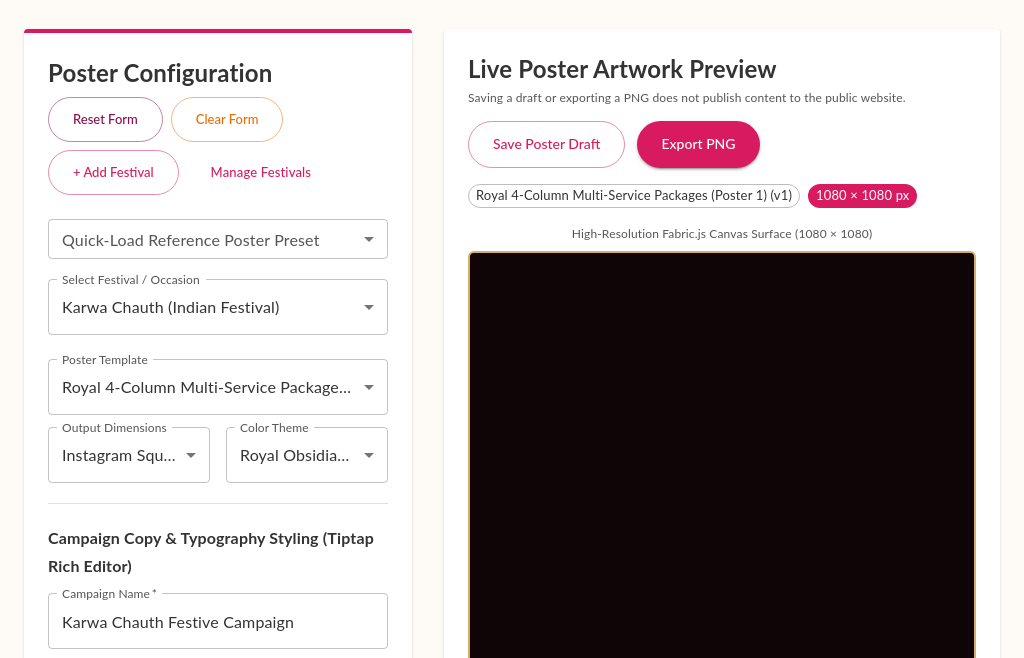
Test: Ticket 8 — Draft Persistence, Snapshot Immutability & PNG Export UI › preserves saved poster snapshot price (₹799) when source catalogue price changes (₹1,299), saves draft, and archives draft
# Save a new poster draft first
Click the button "Save Poster Draft".
click(547, 144)  # box [468,121,625,168]
(page scrolled)
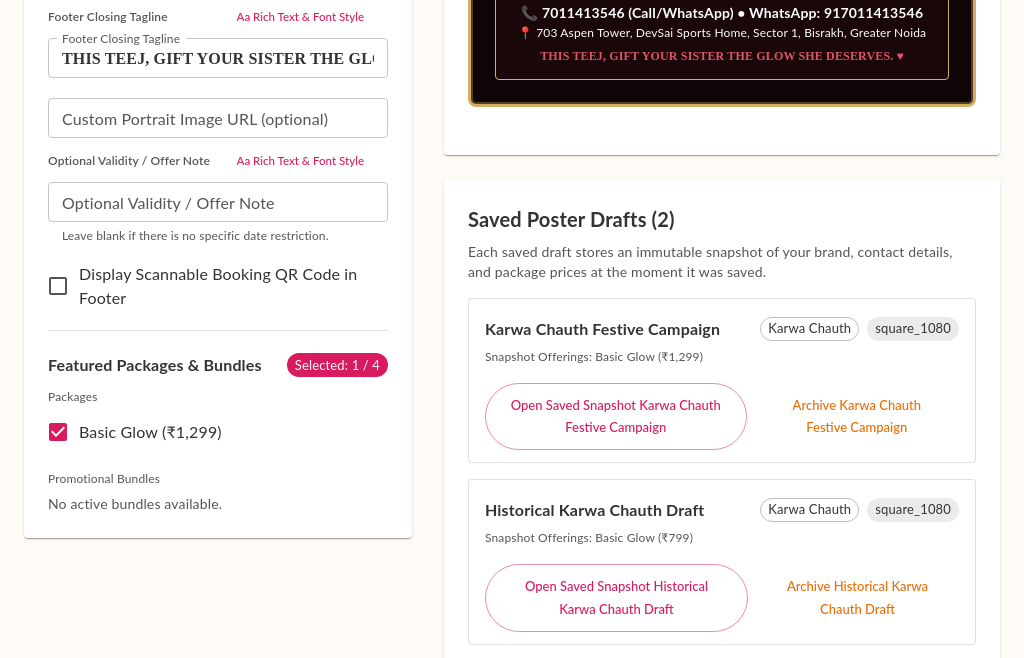
# Now reopen the historical saved poster draft (captured when Basic Glow was ₹799)
Click the button "Open Saved Snapshot Historical Karwa Chauth Draft".
click(616, 598)  # box [485,564,748,632]
(page scrolled)
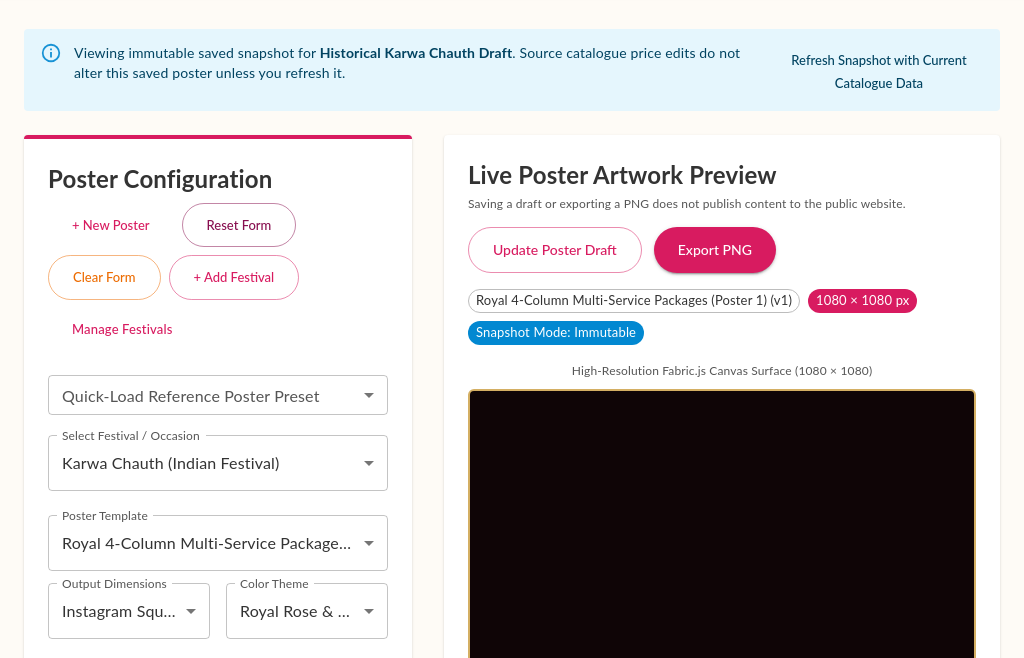
Expected: the text "₹1,299" is not shown
Result: the text "Snapshot Mode: Immutable" is shown at [468,323,644,343]
# Clicking "Refresh Snapshot with Current Catalogue Data" explicitly pulls current price ₹1,299
Click the button "Refresh Snapshot with Current Catalogue Data".
click(879, 72)  # box [766,39,992,104]
(page scrolled)
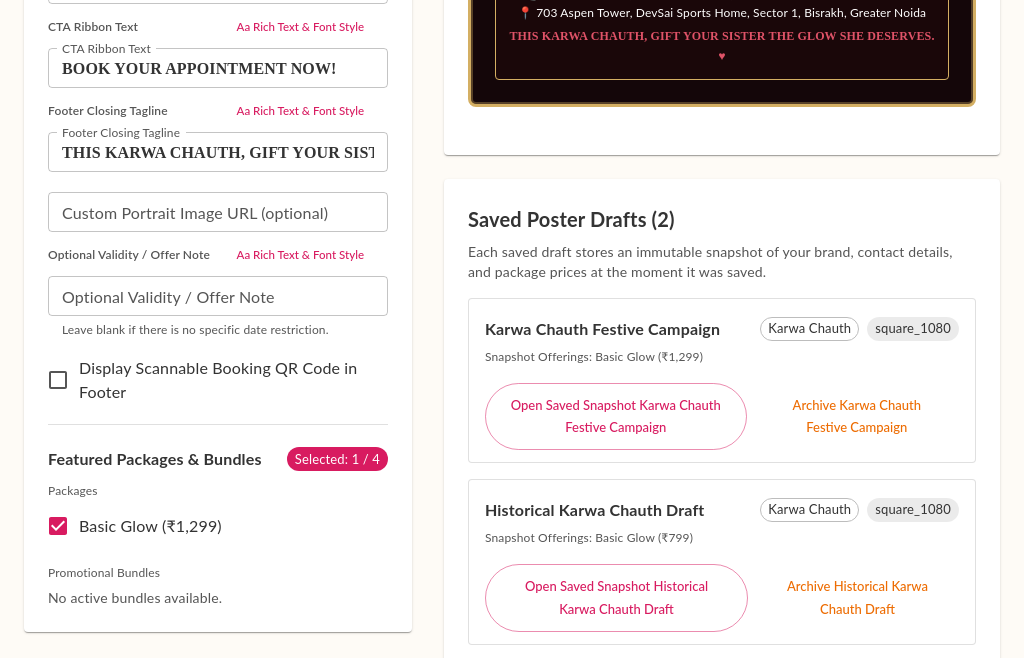
# Archive the historical draft
Click the button "Archive Historical Karwa Chauth Draft".
click(858, 598)  # box [756,565,959,630]
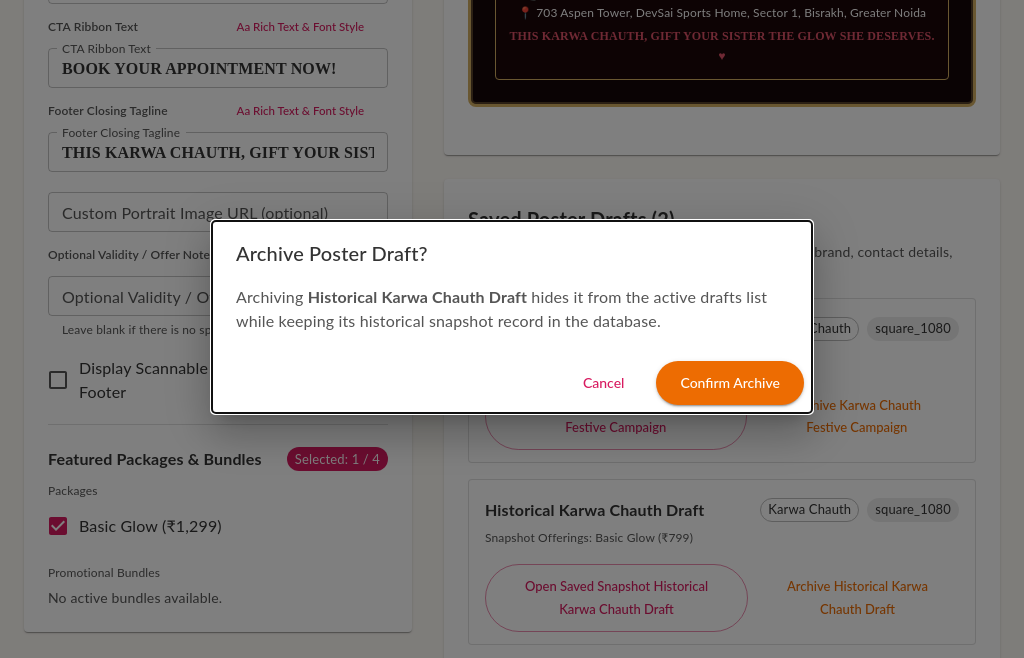
Result: the heading "Archive Poster Draft?" is shown at [236,241,428,265]
Click the button "Confirm Archive".
click(730, 383)  # box [656,361,804,405]
(page scrolled)
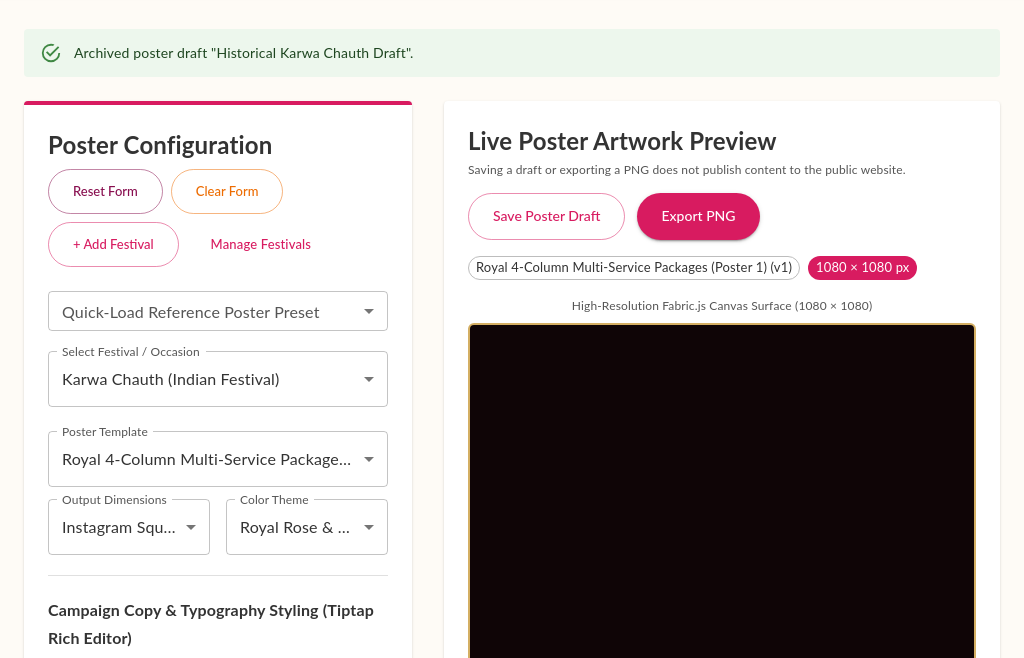
Result: the message shows "Archived poster draft \"Historical Karwa Chauth Draft\"" at [74,44,413,61]
